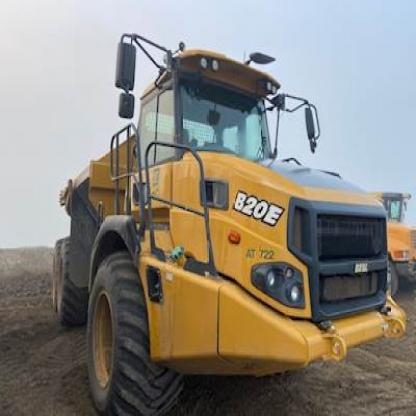dump_truck: (48, 28, 403, 410)
